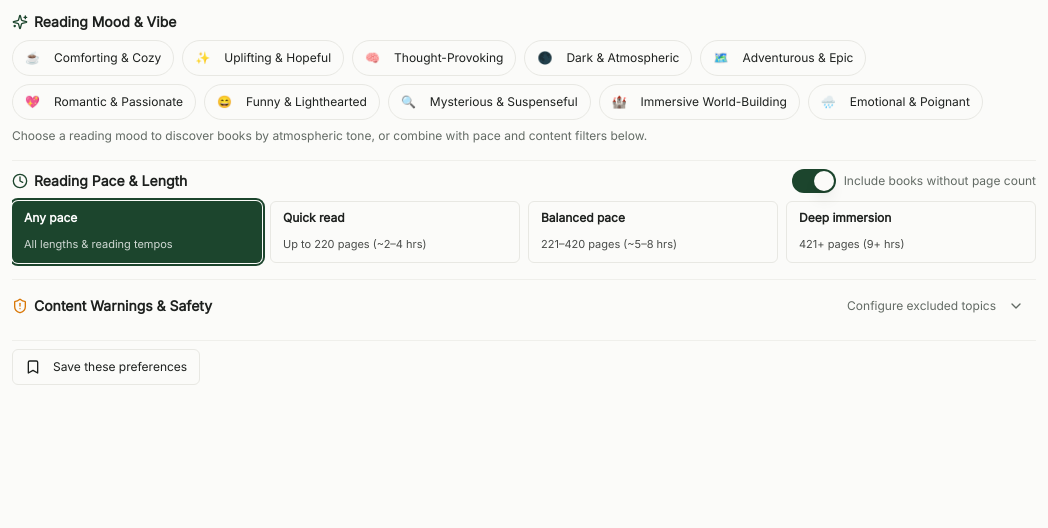
Test: MoodPaceContentFilter Component › prompts consent modal before saving preferences
The image size is (1048, 528).
Later steps or results of the test are not shown.
Click the button "Save these preferences".
click(106, 367)  # box [12,349,200,385]
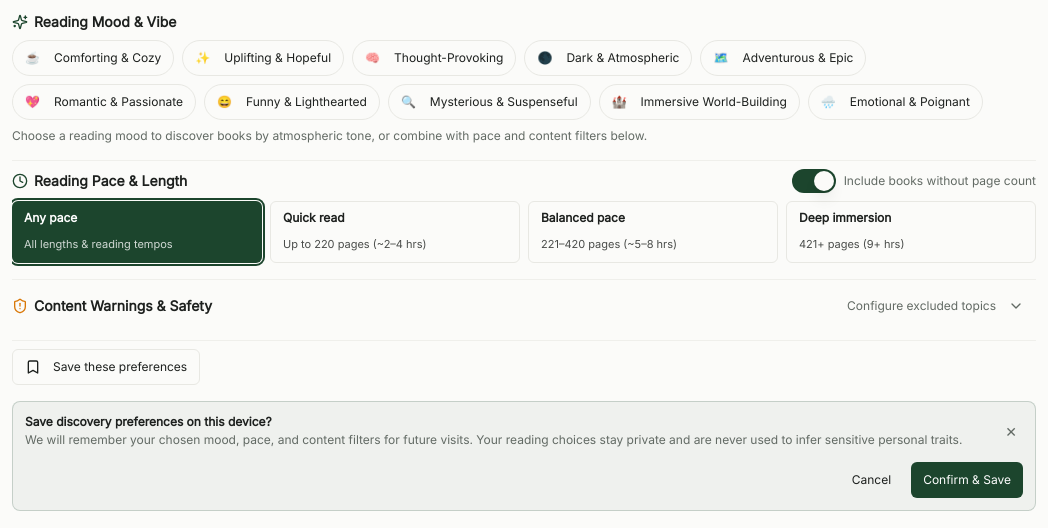
Check: the text "Save discovery preferences on this device?" is shown, box [25,414,272,429]
Check: the text "never used to infer sensitive personal traits" is shown, box [25,432,962,447]
